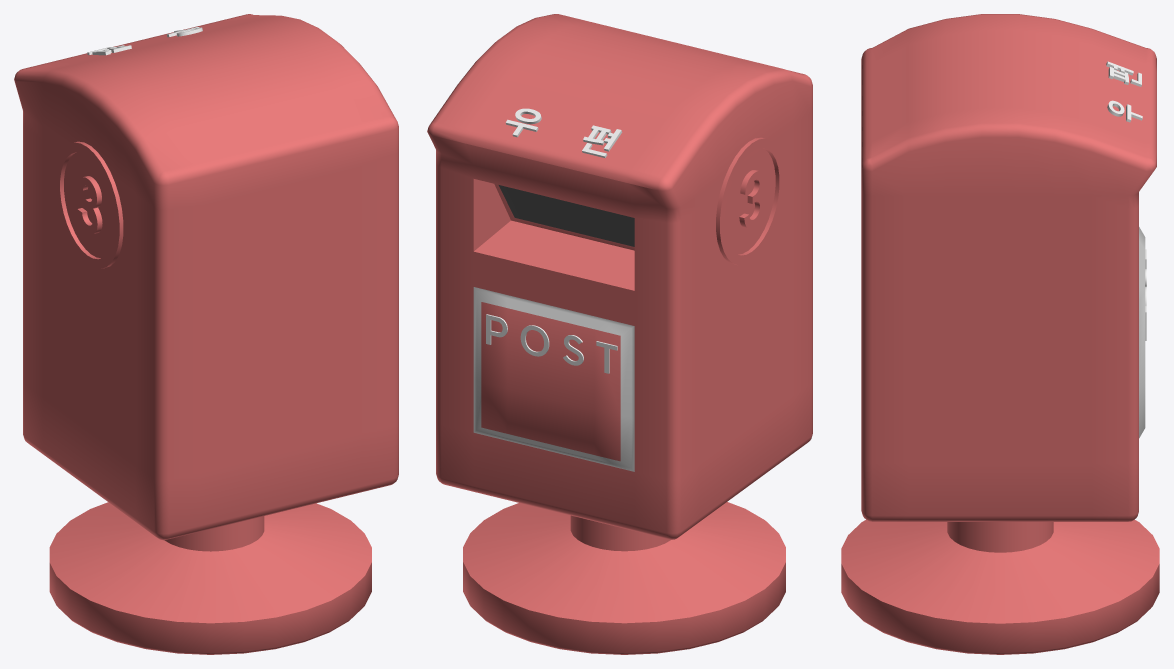
The model's file is post.glb.
3 views of the same model, side by side, from view 1: azimuth 30°, elevation 25°; view 2: azimuth 150°, elevation 25°; view 3: azimuth 270°, elevation 25° (orthographic).
Parts seen in each view (by area): view 1: 우체통; view 2: 우체통; view 3: 우체통.
Part boxes in pixels (x1=…): 우체통: x1=14, y1=14, x2=398, y2=654; 우체통: x1=427, y1=14, x2=812, y2=654; 우체통: x1=841, y1=14, x2=1159, y2=654.
Bounding box in the file's own units: 1.5 × 2.7 × 1.49.
